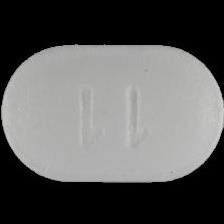57237-007: (0, 0, 224, 224)
